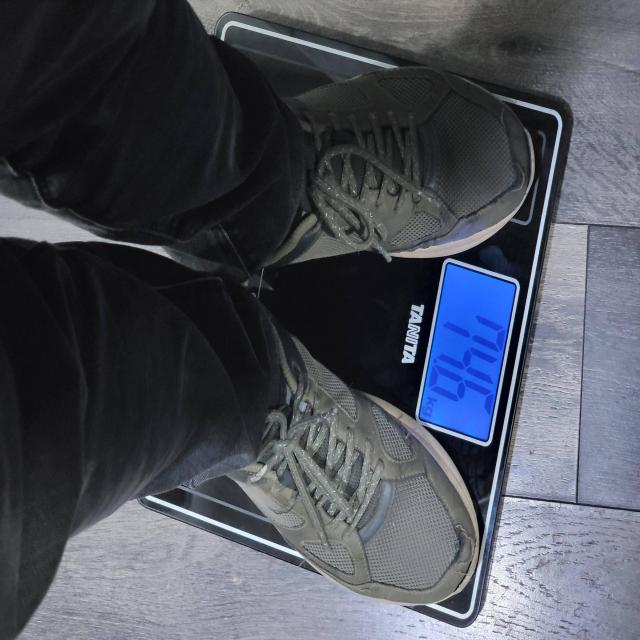ws: (408, 258, 523, 451)
